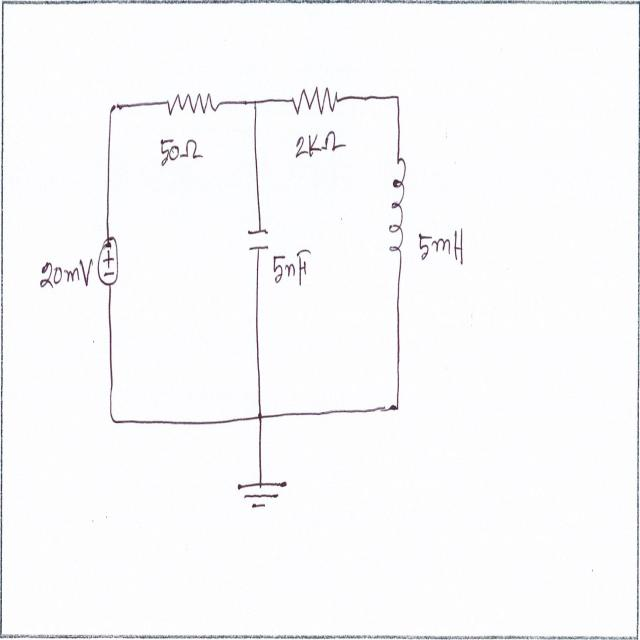capacitor: (245, 225, 272, 258)
ground: (234, 474, 289, 516)
inductor: (386, 153, 408, 259)
resistor: (168, 80, 218, 124), (291, 78, 339, 120)
voltage_source: (95, 227, 120, 293)
